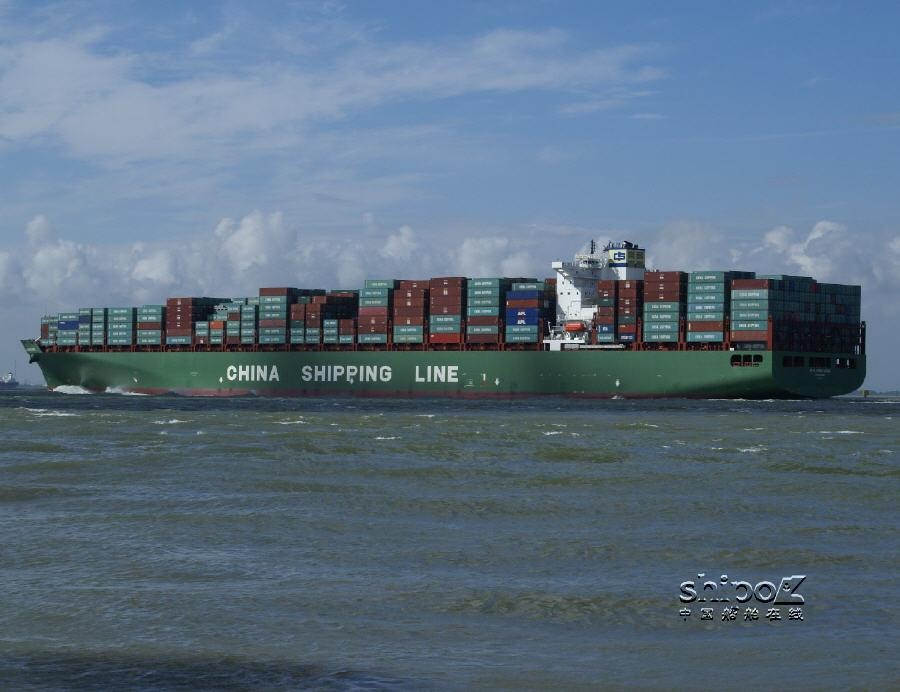Cargoship: (10, 220, 877, 406)
